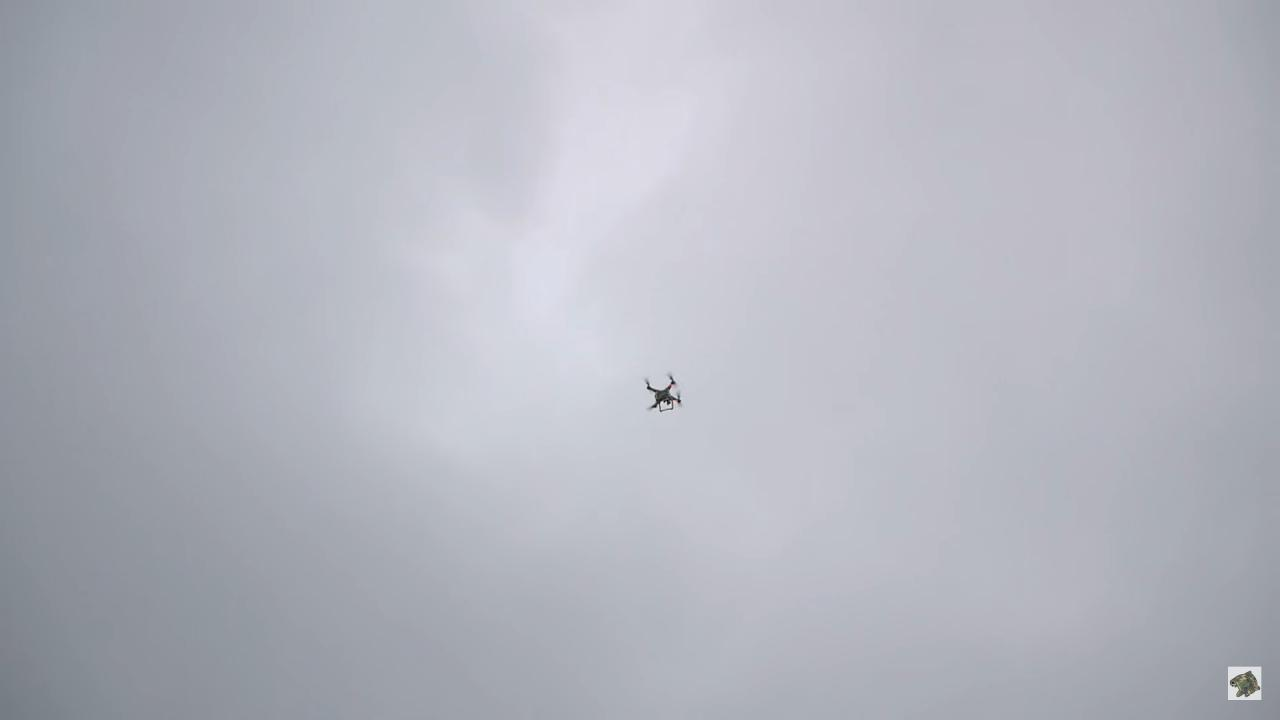Drone: (629, 365, 692, 425)
